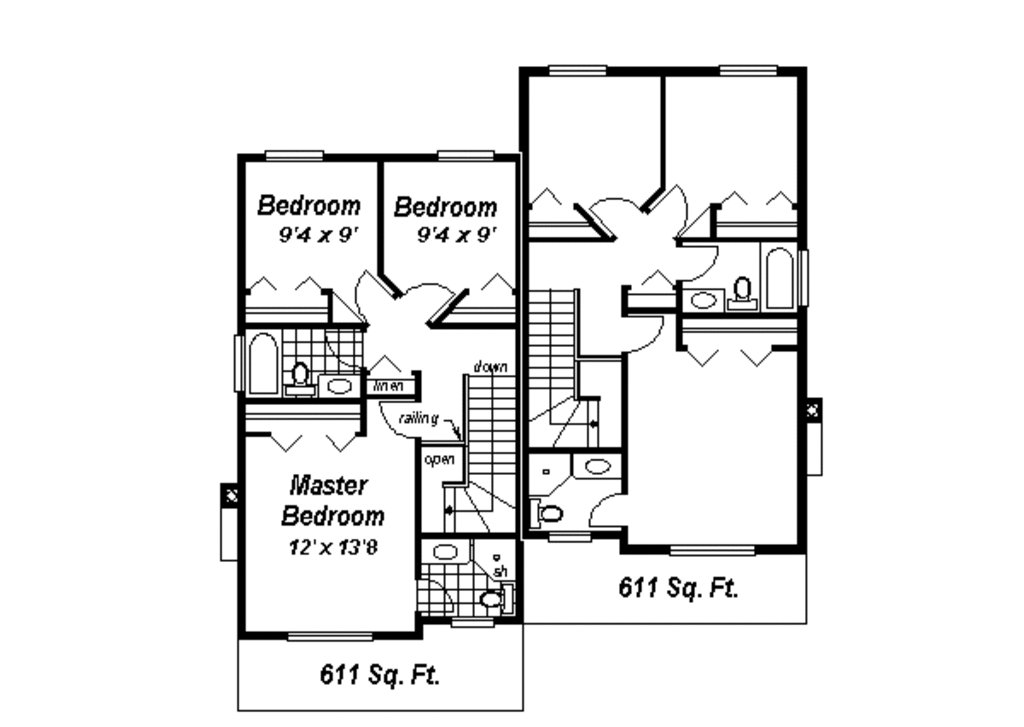door: (336, 265, 406, 336), (572, 183, 648, 241), (360, 389, 431, 443), (637, 173, 693, 231), (618, 310, 674, 358), (407, 270, 453, 325), (671, 231, 721, 281), (584, 487, 637, 532)
large_sink: (721, 256, 760, 319), (477, 577, 521, 619), (281, 359, 316, 401)
small_sink: (670, 278, 728, 317), (425, 540, 482, 567), (315, 377, 360, 402)
stairs: (436, 362, 531, 533), (517, 275, 611, 444)
tub: (763, 234, 799, 321), (240, 332, 285, 398)
window: (534, 55, 617, 80), (259, 141, 334, 168), (287, 629, 378, 645), (436, 146, 502, 168), (670, 545, 759, 561), (716, 61, 789, 79), (229, 330, 247, 402)
